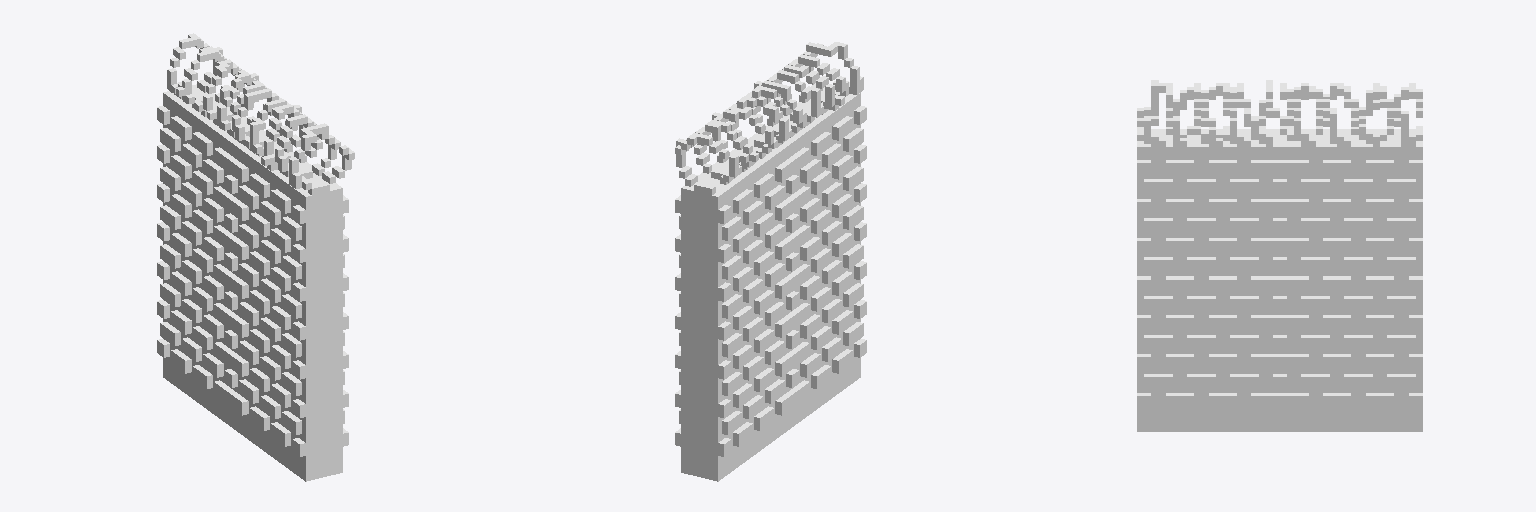
Rendered from outwall.obj.
The picture shows the model from 3 angles: view 1: azimuth 30°, elevation 25°; view 2: azimuth 150°, elevation 25°; view 3: azimuth 270°, elevation 25°; orthographic projection.
Parts seen in each view (by area): view 1: object 1; view 2: object 1; view 3: object 1.
Boxes of the visible parts, box(x1,y1,x2,y2) form: object 1: box(157, 33, 354, 481); object 1: box(675, 42, 866, 481); object 1: box(1137, 80, 1422, 431).
Bounding box in the file's own units: 1.1 × 5.2 × 4.